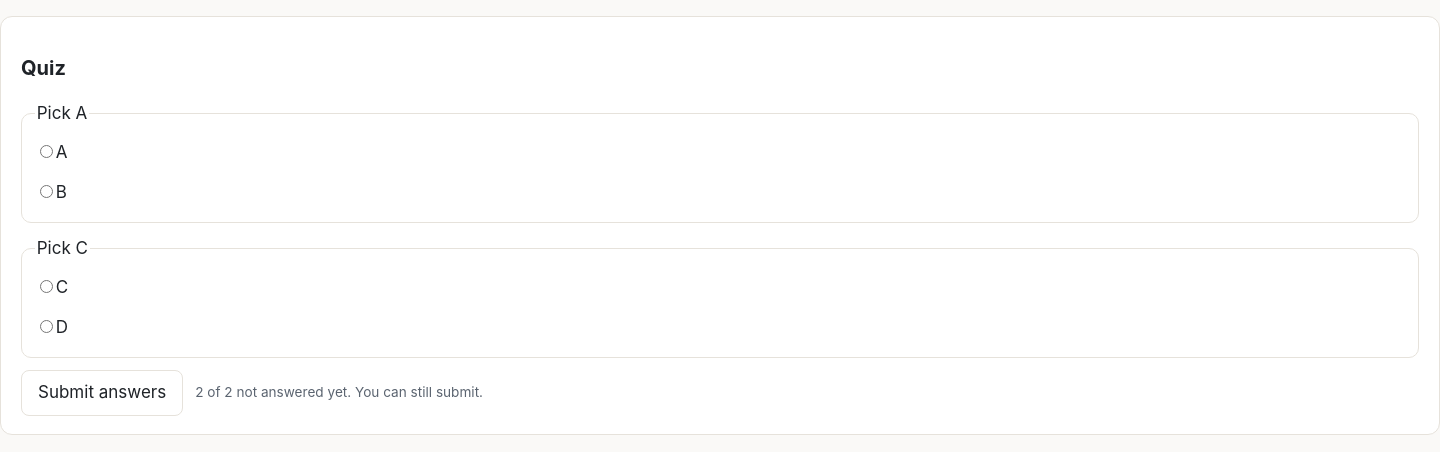
it: QuestionSet › shows the score after submit
Step 1. Click the radio button labelled "A" → coordinates (46, 152), box [40, 145, 53, 158]
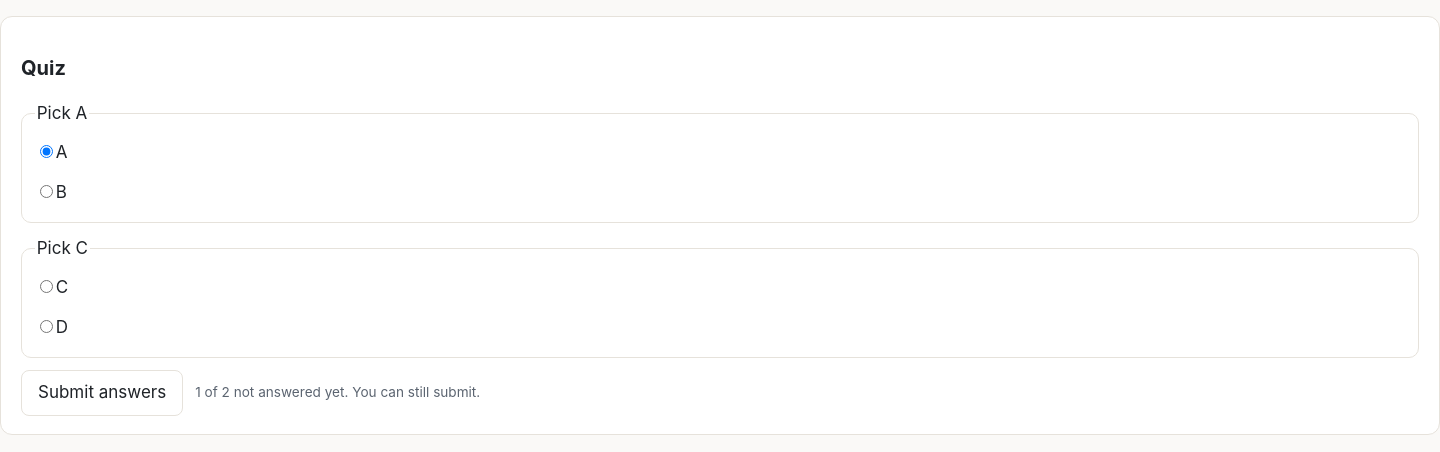
Step 2. Click the radio button labelled "D" → coordinates (46, 326), box [40, 320, 53, 333]
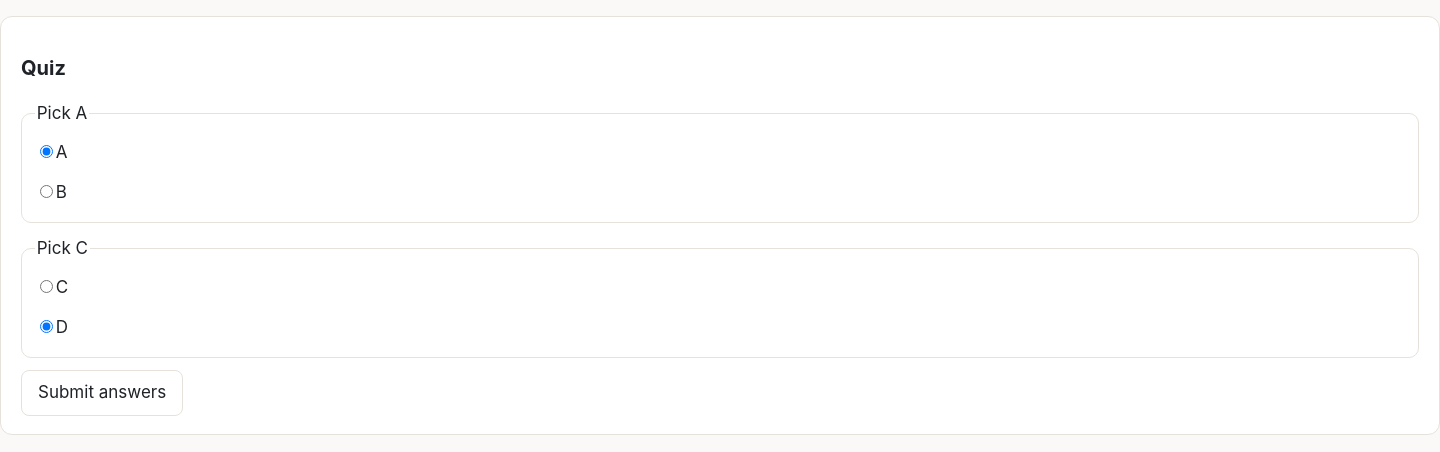
Step 3. Click the button "Submit answers" → coordinates (102, 393), box [21, 370, 183, 416]
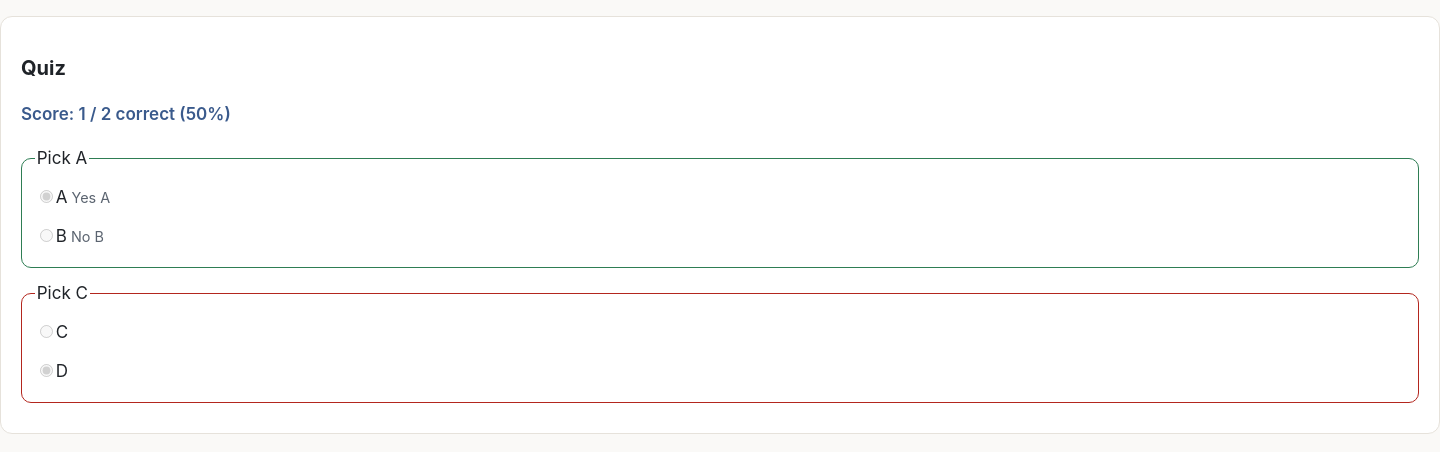
Expected: the text "Score: 1 / 2 correct (50%)" is shown, [21, 104, 231, 124]
